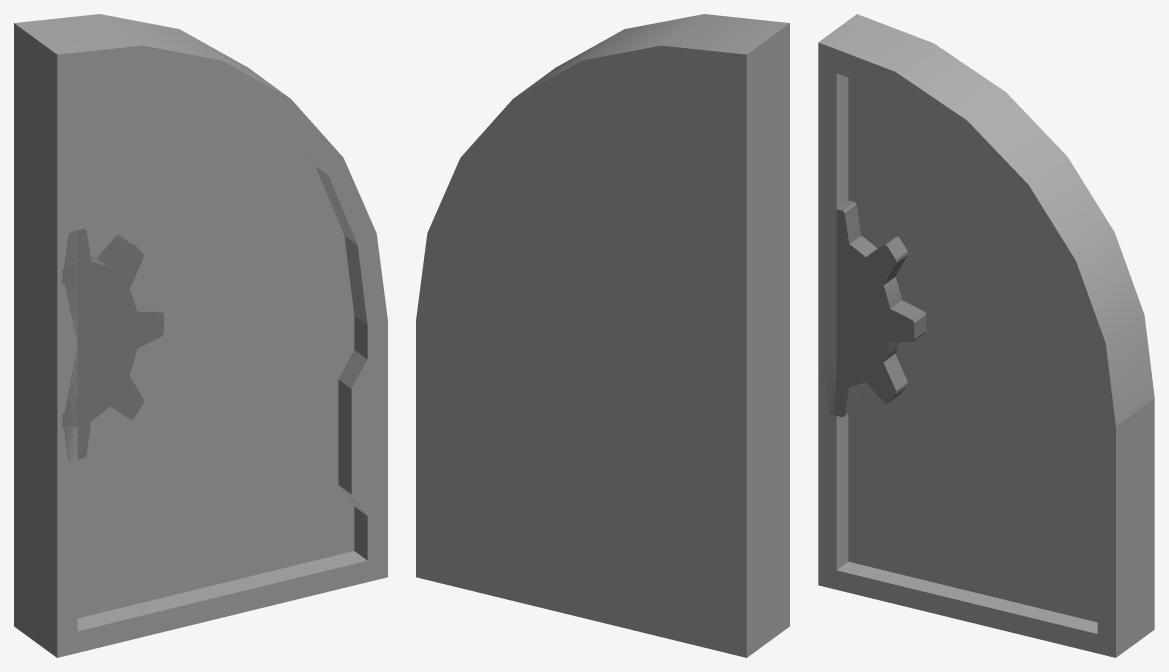
File: door01B.fbx
3 views of the same model, side by side, from view 1: azimuth 30°, elevation 25°; view 2: azimuth 150°, elevation 25°; view 3: azimuth 330°, elevation 25° (orthographic). The views are drawn at different scales.
Parts seen in each view (by area): view 1: polySurface23; view 2: polySurface23; view 3: polySurface23.
Part boxes in pixels (bbox=[...]): polySurface23: bbox=[14, 14, 387, 657]; polySurface23: bbox=[416, 14, 789, 657]; polySurface23: bbox=[818, 14, 1154, 657].
Size of the model in its own units: 1 by 1.74 by 0.2258.
